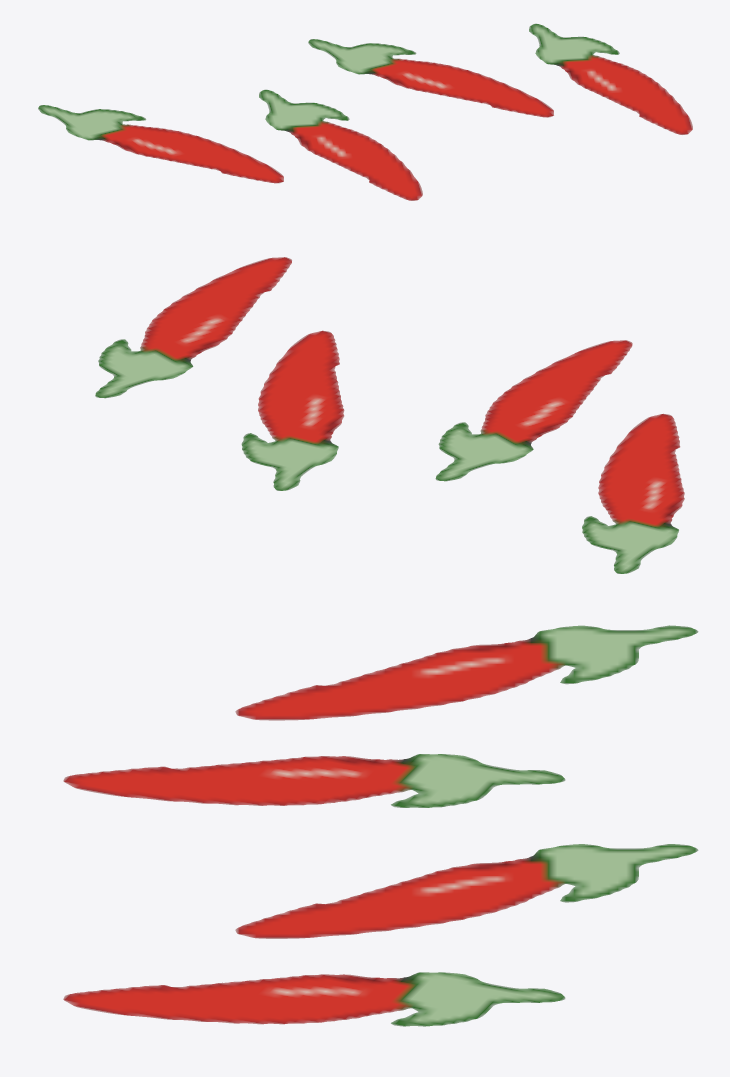
The model's file is giftgoods111f.fbx.
3 views of the same model, one above another, from view 1: azimuth 30°, elevation 25°; view 2: azimuth 150°, elevation 25°; view 3: azimuth 270°, elevation 25° (orthographic). The views are drawn at different scales.
Parts seen in each view (by area): view 1: giftgoods111f; view 2: giftgoods111f; view 3: giftgoods111f.
Boxes of the visible parts, x1,y1,x2,y2 form: giftgoods111f: [38, 23, 692, 200]; giftgoods111f: [95, 257, 684, 573]; giftgoods111f: [63, 625, 698, 1026].
Size of the model in its own units: 0.714 by 1.7e-09 by 0.4721.
